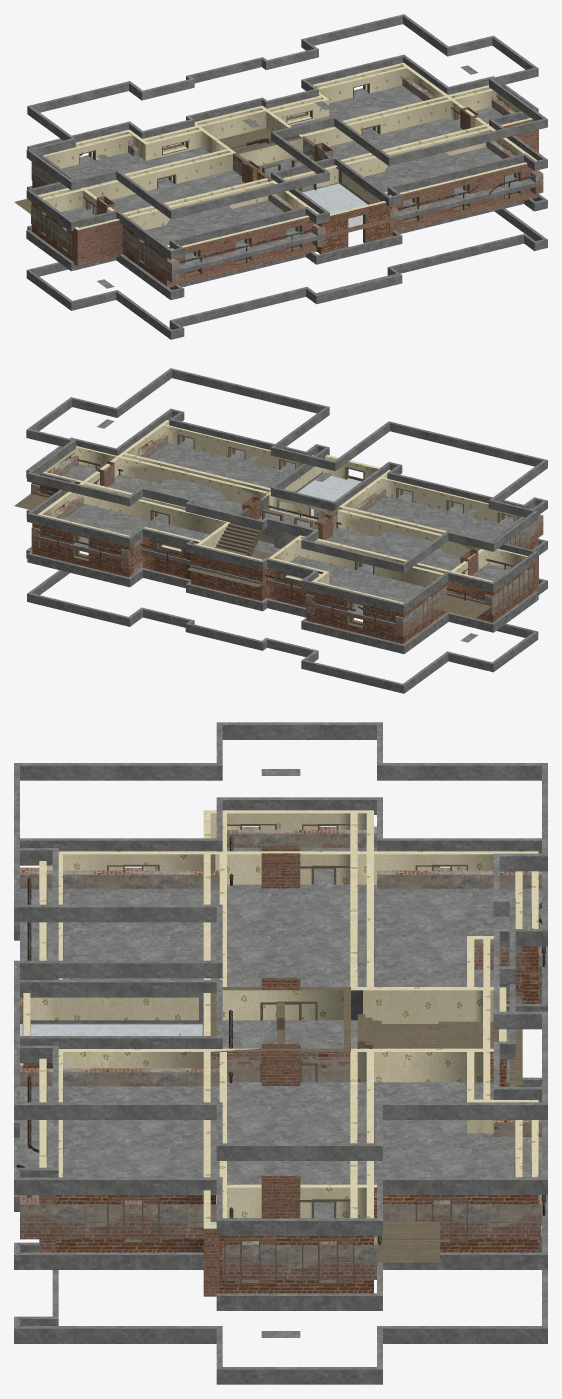
The model's file is building.glb.
3 views of the same model, one above another, from view 1: azimuth 30°, elevation 25°; view 2: azimuth 150°, elevation 25°; view 3: azimuth 270°, elevation 25° (orthographic). The views are drawn at different scales.
Parts seen in each view (by area): view 1: concrete border_Ceramic_0, roof_Ceramic_0, second floor structure_wallpaper_0, Object059_Solid Glass_0, base floor structure_wallpaper_0, Object037_wall_03_0, base floor structure_wall_01_0, Object059_wallpaper_0, base floor win/door/stairs_windows and stairs_0, first floor_celling_0, second floor win/door/stairs_windows and stairs_0, first floor win/door/stairs_windows and stairs_0 (+7 smaller); view 2: concrete border_Ceramic_0, roof_Ceramic_0, base floor structure_wallpaper_0, base floor structure_wall_01_0, second floor structure_wallpaper_0, Object037_wall_03_0, base floor win/door/stairs_windows and stairs_0, roof grill_Metal_0, first floor_Solid Glass_0, pillar_Solid Glass_0, first floor_floor_0, first floor_celling_0 (+7 smaller); view 3: concrete border_Ceramic_0, roof_Ceramic_0, Object037_wall_03_0, base floor structure_wallpaper_0, second floor structure_wallpaper_0, base floor structure_wall_01_0, base floor win/door/stairs_windows and stairs_0, pillar_Solid Glass_0, roof halway_wallpaper_0, pillar_wall_01_0, Object059_wallpaper_0, roof halway_wall_03_0 (+12 smaller).
Part boxes in pixels (box(x1,y1,x2,y2)): concrete border_Ceramic_0: box(26, 14, 547, 339); roof_Ceramic_0: box(61, 85, 535, 275); second floor structure_wallpaper_0: box(42, 66, 536, 249); Object059_Solid Glass_0: box(37, 119, 538, 287); base floor structure_wallpaper_0: box(38, 62, 515, 246); Object037_wall_03_0: box(31, 77, 543, 282); base floor structure_wall_01_0: box(31, 173, 518, 282); Object059_wallpaper_0: box(83, 129, 490, 229); base floor win/door/stairs_windows and stairs_0: box(36, 83, 518, 272); first floor_celling_0: box(303, 184, 367, 227); second floor win/door/stairs_windows and stairs_0: box(41, 83, 520, 276); first floor win/door/stairs_windows and stairs_0: box(41, 83, 521, 277); concrete border_Ceramic_0: box(26, 368, 547, 693); roof_Ceramic_0: box(31, 437, 513, 623); base floor structure_wallpaper_0: box(50, 424, 527, 586); base floor structure_wall_01_0: box(31, 482, 534, 643); second floor structure_wallpaper_0: box(38, 420, 538, 603); Object037_wall_03_0: box(31, 434, 543, 636); base floor win/door/stairs_windows and stairs_0: box(48, 434, 529, 628); roof grill_Metal_0: box(37, 459, 514, 631); first floor_Solid Glass_0: box(31, 475, 492, 629); pillar_Solid Glass_0: box(96, 461, 478, 575); first floor_floor_0: box(14, 493, 488, 618); first floor_celling_0: box(297, 474, 361, 516); concrete border_Ceramic_0: box(14, 722, 547, 1384); roof_Ceramic_0: box(20, 847, 541, 1237); Object037_wall_03_0: box(20, 826, 541, 1279); base floor structure_wallpaper_0: box(23, 810, 538, 1218); second floor structure_wallpaper_0: box(39, 810, 522, 1228); base floor structure_wall_01_0: box(23, 946, 538, 1293); base floor win/door/stairs_windows and stairs_0: box(22, 824, 539, 1284); pillar_Solid Glass_0: box(261, 846, 300, 1218); roof halway_wallpaper_0: box(222, 990, 343, 1020); pillar_wall_01_0: box(261, 846, 300, 1218); Object059_wallpaper_0: box(194, 854, 483, 1217); roof halway_wall_03_0: box(211, 1052, 350, 1082).
Bounding box in the file's own units: 4.97e+09 × 1.31e+09 × 2.65e+09.
Materials: 10 (10 with a texture image).
